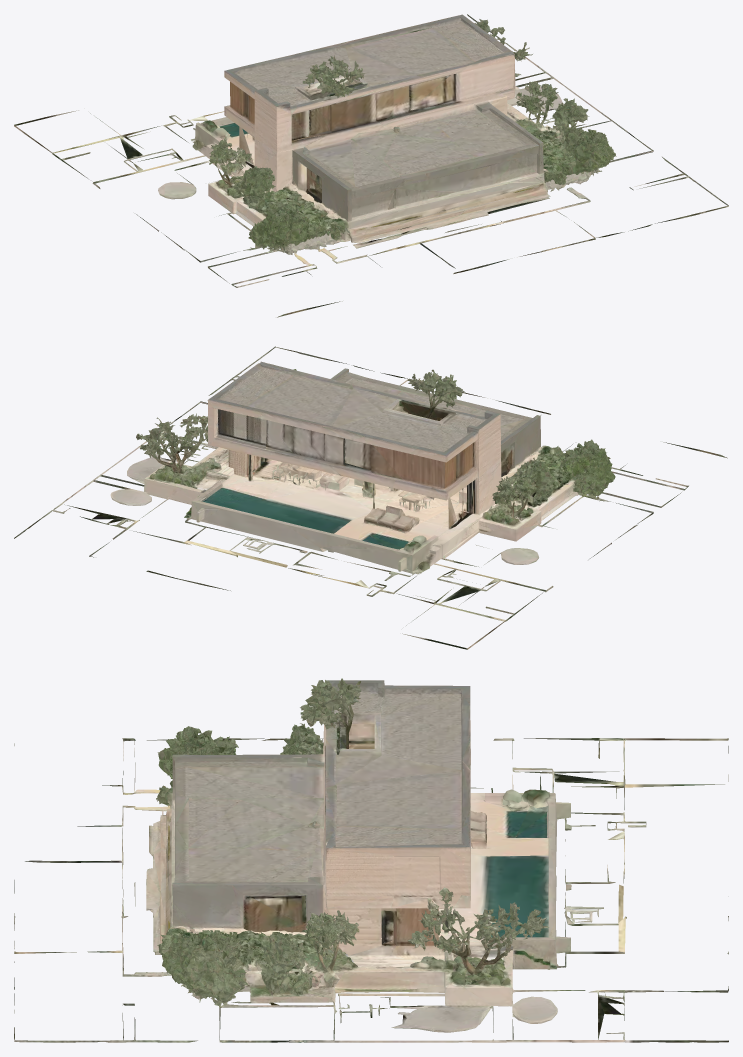
The model's file is villa.glb.
3 views of the same model, one above another, from view 1: azimuth 30°, elevation 25°; view 2: azimuth 150°, elevation 25°; view 3: azimuth 270°, elevation 25° (orthographic). The views are drawn at different scales.
Visible parts, largest first — view 1: Mesh_0; view 2: Mesh_0; view 3: Mesh_0.
Boxes of the visible parts, box(x1,y1,x2,y2) form: Mesh_0: box(14, 14, 728, 317); Mesh_0: box(14, 346, 727, 649); Mesh_0: box(14, 678, 728, 1042).
Bounding box in the file's own units: 1.9 × 0.5354 × 1.9.
Materials: 1 (1 with a texture image).
